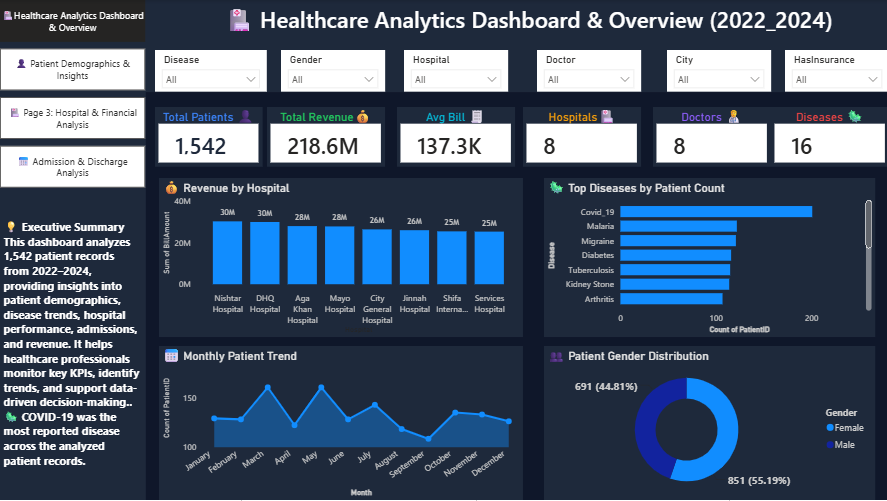

The dashboard page shown, as its layout file describes it:
{"tool":"powerbi","page":{"name":" 🏥Healthcare Analytics Dashboard & Overview ","canvas":[1280,720],"ordinal":0},"visuals":[{"type":"shape","box":[0,0,1280,132.7],"z":0},{"type":"textbox","box":[317.5,0,962.5,58.8],"z":1000},{"type":"cardVisual","title":"Total Patients 👤","fields":{"Data":["CountNonNull(Dim Patient.PatientID)"]},"box":[223.4,154.5,154.5,85.7],"z":2000},{"type":"cardVisual","title":"Total Revenue💰","fields":{"Data":["Sum(Fact Healthcare.BillAmount)"]},"box":[384.7,154.5,169.7,85.7],"z":3000},{"type":"cardVisual","title":"Hospitals🏥","fields":{"Data":["Count(Fact Healthcare.Hospital)"]},"box":[752.5,154.5,169.7,85.7],"z":4000},{"type":"cardVisual","title":"Doctors 👨⚕️","fields":{"Data":["Count(Fact Healthcare.Doctor)"]},"box":[940.7,154.5,169.7,85.7],"z":5000},{"type":"cardVisual","title":"Avg Bill 🧾","fields":{"Data":["Avg(Fact Healthcare.BillAmount)"]},"box":[571.1,154.5,169.7,85.7],"z":6000},{"type":"clusteredColumnChart","title":"💰 Revenue by Hospital","fields":{"Category":["Fact Healthcare.Hospital"],"Y":["Sum(Fact Healthcare.BillAmount)"]},"box":[228.5,257,512.3,228.5],"z":7000},{"type":"clusteredBarChart","title":"🦠 Top Diseases by Patient Count","fields":{"Category":["Fact Healthcare.Disease"],"Y":["CountNonNull(Fact Healthcare.PatientID)"]},"box":[799.6,257,460.3,228.5],"z":8000},{"type":"lineChart","title":"📅 Monthly Patient Trend","fields":{"Category":["Fact Healthcare.AdmissionDate.Variation.Date Hierarchy.Month"],"Y":["CountNonNull(Fact Healthcare.PatientID)"]},"box":[223.4,525.8,512.3,194.9],"z":9000},{"type":"donutChart","title":"👥 Patient Gender Distribution","fields":{"Category":["Dim Patient.Gender"],"Y":["CountNonNull(Dim Patient.PatientID)"]},"box":[799.6,505.6,460.3,204.9],"z":10000},{"type":"slicer","fields":{"Values":["Fact Healthcare.Hospital"]},"box":[581.2,72.2,149.5,60.5],"z":11000},{"type":"slicer","fields":{"Values":["Dim Patient.Gender"]},"box":[404.8,72.2,149.5,60.5],"z":12000},{"type":"cardVisual","title":"Diseases 🦠","fields":{"Data":["Count(Fact Healthcare.Disease)"]},"box":[1110.3,154.5,169.7,85.7],"z":13000},{"type":"slicer","fields":{"Values":["Fact Healthcare.Doctor"]},"box":[772.7,72.2,149.5,60.5],"z":14000},{"type":"slicer","fields":{"Values":["Dim Patient.City"]},"box":[960.8,72.2,149.5,60.5],"z":15000},{"type":"slicer","fields":{"Values":["Dim Patient.HasInsurance"]},"box":[1130.5,72.2,149.5,60.5],"z":16000},{"type":"shape","box":[0,0,210,720.6],"z":17000},{"type":"slicer","fields":{"Values":["Fact Healthcare.Disease"]},"box":[223.4,72.2,161.3,60.5],"z":18000},{"type":"pageNavigator","box":[0,0,210,272.1],"z":19000},{"type":"textbox","box":[0,310.8,210,399.8],"z":20000}]}

Visuals, with their boxes on the page's 1280x720 design canvas (x1, y1, x2, y2). These are canvas units, not pixel positions in the 887x501 screenshot, which may show the page scaled, cropped or inside an application window:
shape: bbox=[0, 0, 1280, 133]
textbox: bbox=[318, 0, 1280, 59]
"Total Patients 👤" cardVisual: bbox=[223, 154, 378, 240]
"Total Revenue💰" cardVisual: bbox=[385, 154, 554, 240]
"Hospitals🏥" cardVisual: bbox=[752, 154, 922, 240]
"Doctors 👨⚕️" cardVisual: bbox=[941, 154, 1110, 240]
"Avg Bill 🧾" cardVisual: bbox=[571, 154, 741, 240]
"💰 Revenue by Hospital" clusteredColumnChart: bbox=[228, 257, 741, 486]
"🦠 Top Diseases by Patient Count" clusteredBarChart: bbox=[800, 257, 1260, 486]
"📅 Monthly Patient Trend" lineChart: bbox=[223, 526, 736, 721]
"👥 Patient Gender Distribution" donutChart: bbox=[800, 506, 1260, 710]
slicer - Fact Healthcare.Hospital: bbox=[581, 72, 731, 133]
slicer - Dim Patient.Gender: bbox=[405, 72, 554, 133]
"Diseases 🦠" cardVisual: bbox=[1110, 154, 1280, 240]
slicer - Fact Healthcare.Doctor: bbox=[773, 72, 922, 133]
slicer - Dim Patient.City: bbox=[961, 72, 1110, 133]
slicer - Dim Patient.HasInsurance: bbox=[1130, 72, 1280, 133]
shape: bbox=[0, 0, 210, 721]
slicer - Fact Healthcare.Disease: bbox=[223, 72, 385, 133]
pageNavigator: bbox=[0, 0, 210, 272]
textbox: bbox=[0, 311, 210, 711]
